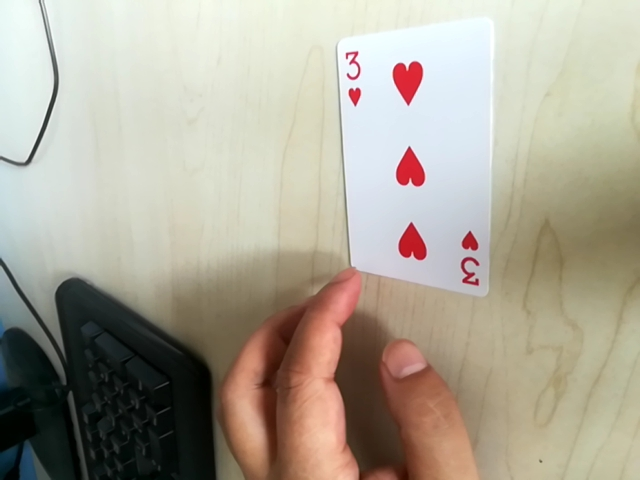hx 3: (454, 236, 490, 295), (334, 45, 365, 106)
